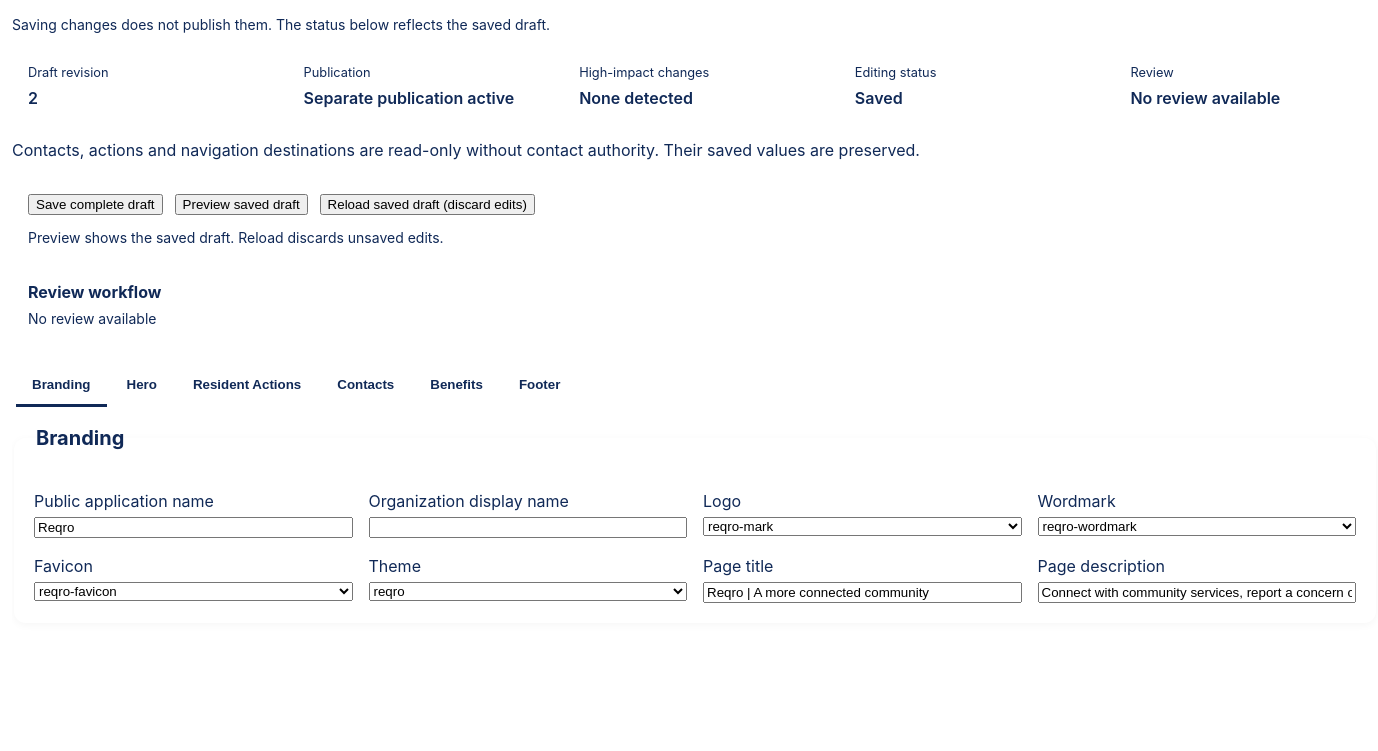
loads complete saved draft and saves ordinary branding without deleting restricted fields
Step 1. Replace the text in the field labelled "Public application name" with "Changed community" → (193, 528), box [34, 517, 352, 538]
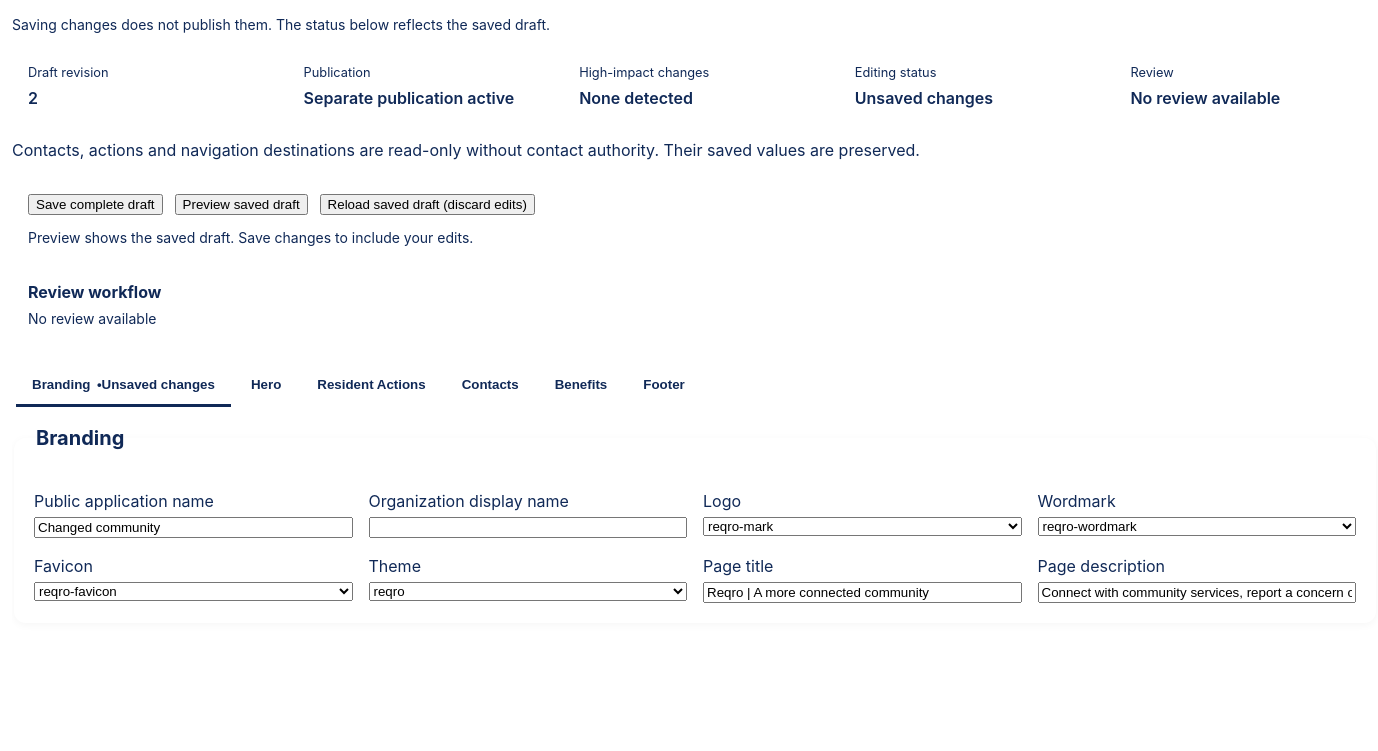
Step 2. Click the tab "Contacts" → (490, 386), box [446, 365, 535, 407]
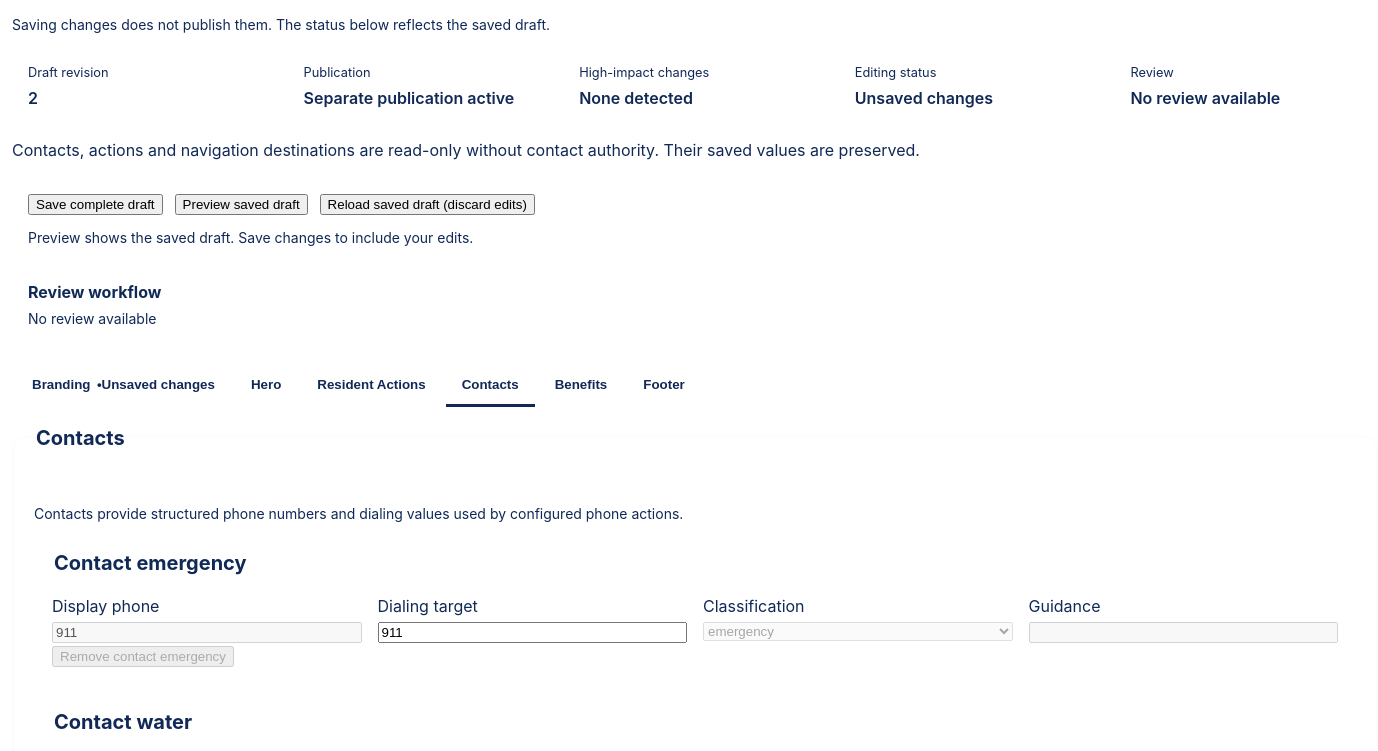
Result: the field labelled "Display phone" is disabled at [52, 622, 362, 643]
Step 3. Click the button "Save complete draft" → (95, 205), box [28, 194, 162, 215]
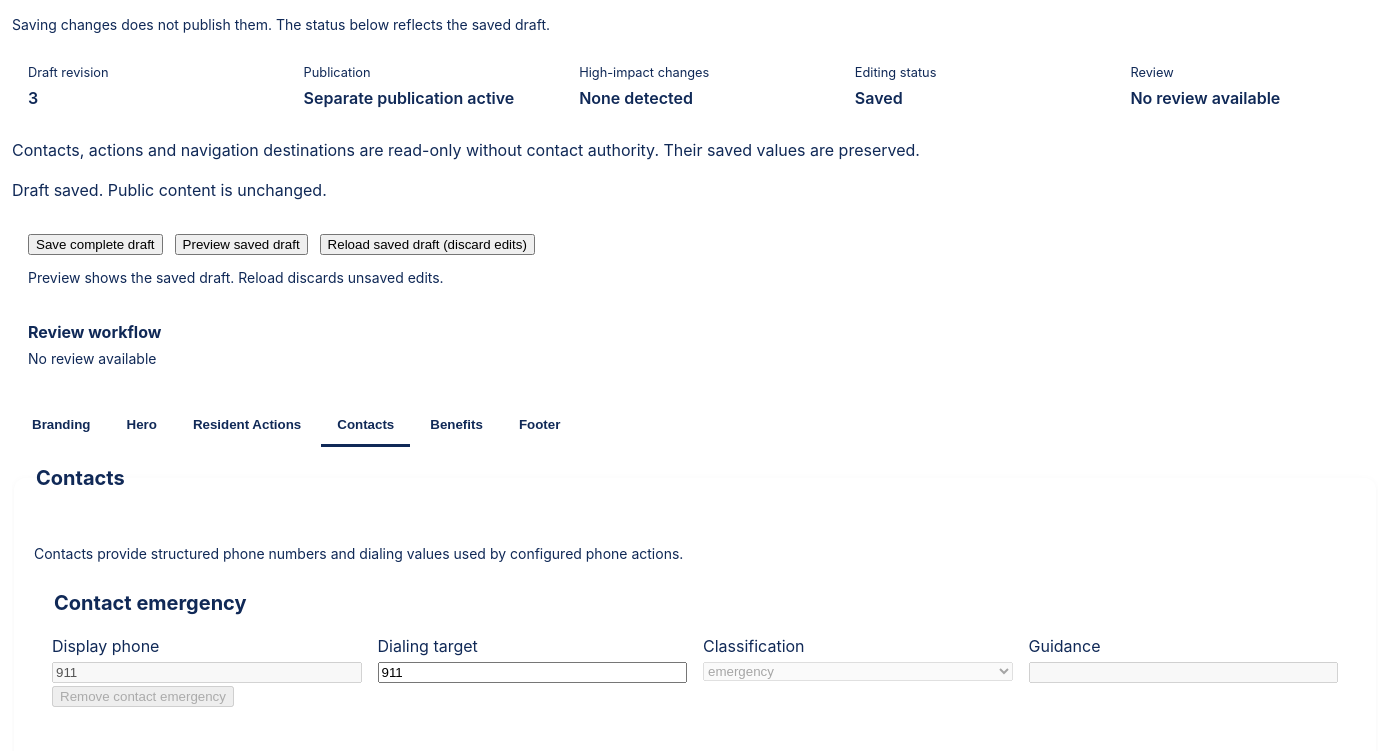
Result: the text "Draft saved. Public content is unchanged." is shown at [12, 180, 327, 200]
